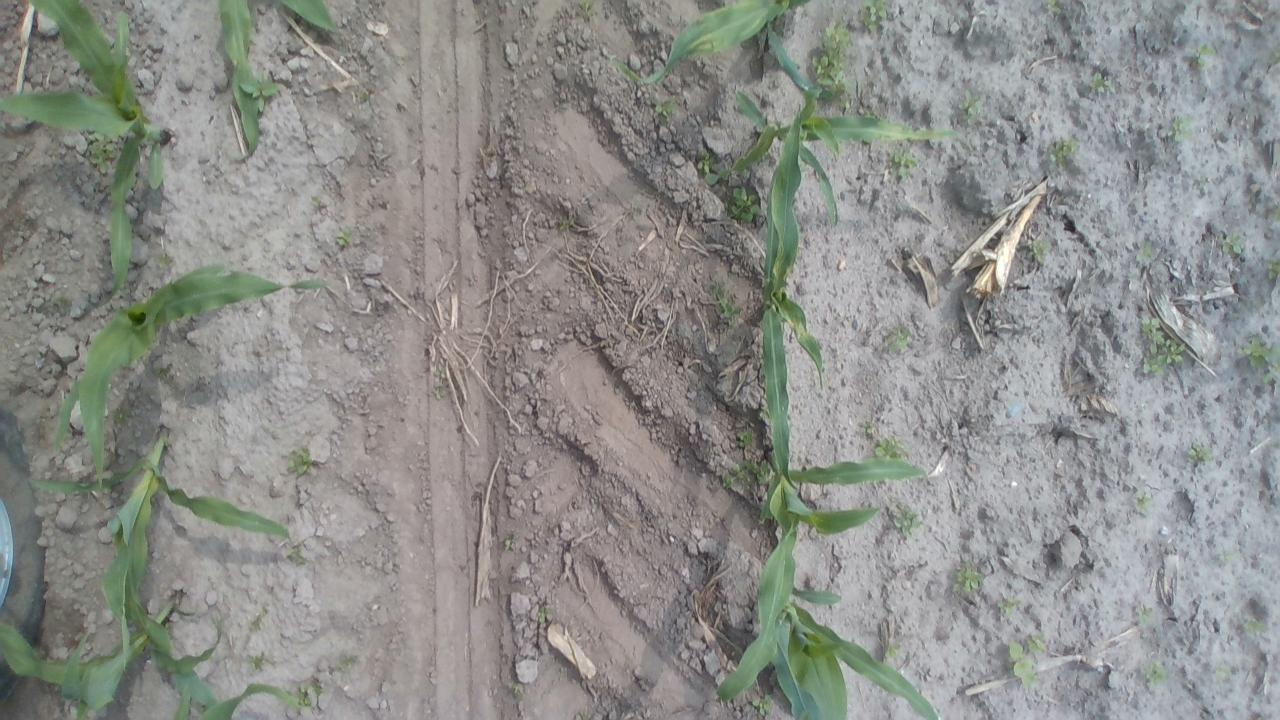Maize: (23, 424, 299, 673), (49, 262, 339, 494), (717, 463, 936, 704), (0, 0, 170, 291), (720, 90, 970, 225), (0, 589, 228, 719), (762, 99, 824, 487), (770, 582, 940, 720), (216, 0, 346, 165), (614, 0, 824, 89), (175, 678, 312, 720)
Weeds: (808, 18, 858, 112), (1136, 316, 1188, 380), (1006, 628, 1048, 691), (1240, 332, 1276, 384), (236, 75, 282, 115), (696, 148, 740, 187), (722, 458, 774, 490), (82, 133, 119, 173), (887, 502, 925, 540), (730, 184, 766, 224), (710, 280, 741, 326), (950, 559, 986, 597), (887, 146, 920, 187), (1044, 135, 1080, 170), (856, 1, 891, 34), (1184, 42, 1222, 72), (284, 445, 318, 478), (293, 679, 325, 713), (885, 320, 916, 354), (958, 87, 987, 122), (874, 436, 910, 462), (283, 540, 312, 570), (1186, 440, 1215, 470), (998, 592, 1027, 621), (429, 365, 452, 401), (1218, 229, 1246, 258), (1022, 239, 1051, 266), (1167, 112, 1191, 144), (654, 92, 678, 124), (1142, 660, 1168, 688), (334, 648, 360, 674), (752, 691, 778, 717), (1131, 241, 1157, 267), (1134, 600, 1158, 628), (1132, 486, 1154, 516), (248, 604, 270, 634), (1242, 612, 1268, 637), (248, 651, 272, 676), (1086, 72, 1115, 92), (533, 602, 556, 627), (734, 426, 758, 449), (556, 208, 577, 232), (114, 401, 132, 428), (156, 251, 178, 273), (336, 224, 356, 248), (1040, 0, 1066, 18), (885, 639, 902, 663), (506, 680, 526, 700), (50, 296, 72, 314), (578, 0, 598, 18), (502, 534, 518, 556), (310, 192, 326, 214), (1214, 663, 1232, 682), (356, 86, 374, 105), (860, 416, 876, 437), (1263, 257, 1276, 282), (1216, 548, 1235, 565), (572, 708, 594, 720), (1270, 46, 1280, 66), (1270, 204, 1280, 222), (151, 368, 167, 378)
